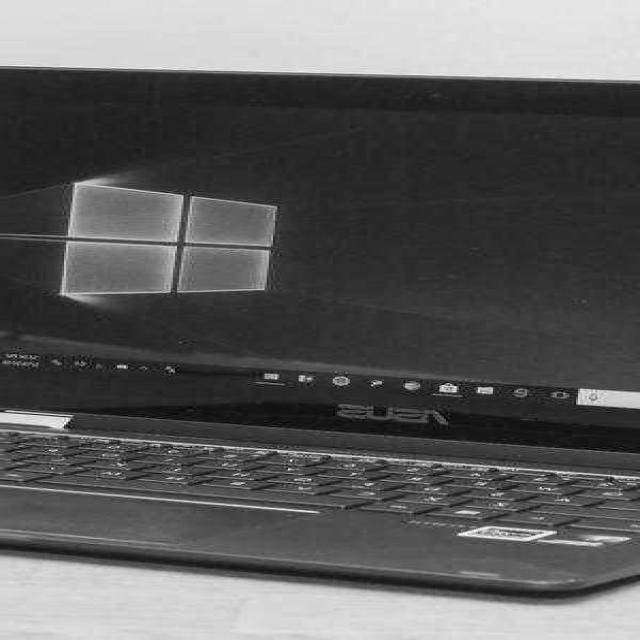laptop: (0, 87, 634, 548)
